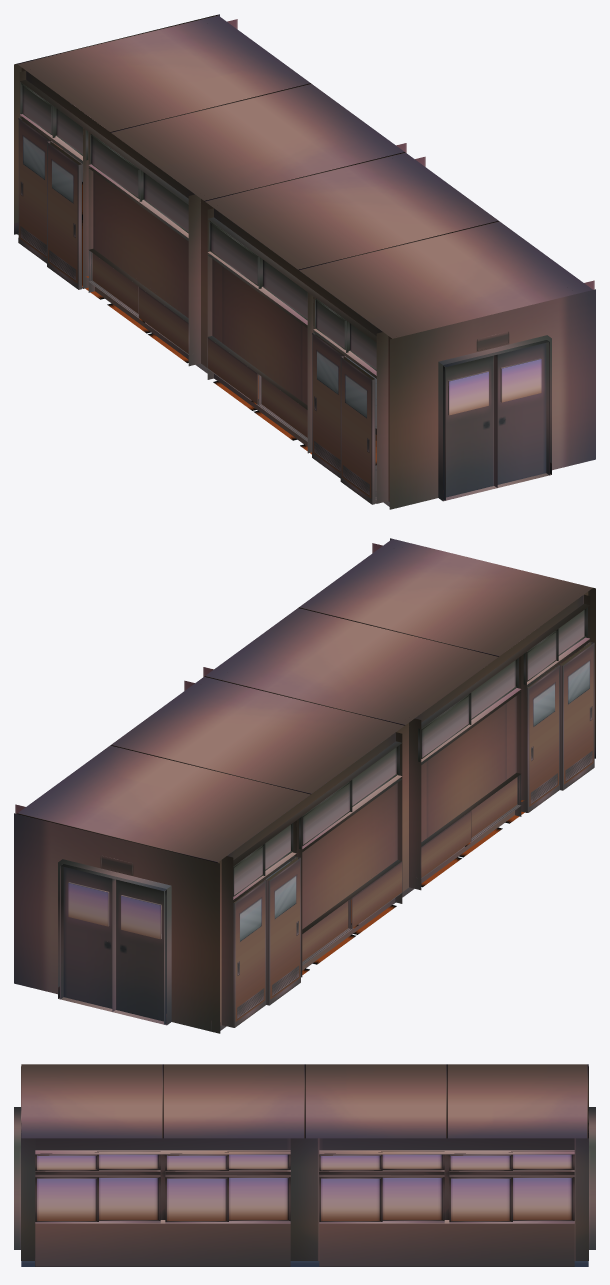
The model's file is JpsHallWayEveModel.FBX.
3 views of the same model, one above another, from view 1: azimuth 30°, elevation 25°; view 2: azimuth 150°, elevation 25°; view 3: azimuth 270°, elevation 25° (orthographic). The views are drawn at different scales.
Visible parts, largest first — view 1: HW_ceiling board_eve00, HW_wallL_eve00, HW_wall_exitB_eve00, HW_doorL_exitB_eve00, HW_doorR_exitB_eve00, HW_doorR_b_eve, HW_doorR_f_eve, HW_doorL_f_eve, HW_doorL_b_eve, HW_floor_spot_add_eve00, HW_wall_exitA_eve00; view 2: HW_ceiling board_eve00, HW_wallL_eve00, HW_wall_exitA_eve00, HW_doorL_exitA_eve00, HW_doorR_exitA_eve00, HW_doorR_b_eve, HW_doorR_f_eve, HW_doorL_f_eve, HW_doorL_b_eve, HW_floor_spot_add_eve00; view 3: HW_wallR__eve00, HW_ceiling board_eve00, HW_wall_exitA_eve00, HW_wall_exitB_eve00, HW_baseboardsR00, HW_floor_eve00.
Part boxes in pixels (x1,y1,x2,y2): HW_ceiling board_eve00: (17,15,592,338); HW_wallL_eve00: (19,68,391,503); HW_wall_exitB_eve00: (389,289,595,509); HW_doorL_exitB_eve00: (443,354,497,500); HW_doorR_exitB_eve00: (497,340,549,484); HW_doorR_b_eve: (340,356,375,504); HW_doorR_f_eve: (47,141,81,289); HW_doorL_f_eve: (18,117,53,263); HW_doorL_b_eve: (312,332,346,478); HW_floor_spot_add_eve00: (82,182,376,465); HW_wall_exitA_eve00: (14,14,219,234); HW_ceiling board_eve00: (17,539,592,862); HW_wallL_eve00: (218,592,590,1027); HW_wall_exitA_eve00: (14,813,220,1033); HW_doorL_exitA_eve00: (112,878,166,1024); HW_doorR_exitA_eve00: (60,864,112,1008); HW_doorR_b_eve: (559,642,594,790); HW_doorR_f_eve: (266,857,300,1005); HW_doorL_f_eve: (233,879,266,1027); HW_doorL_b_eve: (527,665,559,812); HW_floor_spot_add_eve00: (302,800,524,974); HW_wallR__eve00: (21,1132,588,1266); HW_ceiling board_eve00: (21,1064,588,1138); HW_wall_exitA_eve00: (588,1107,595,1249); HW_wall_exitB_eve00: (14,1107,21,1249); HW_baseboardsR00: (35,1258,574,1266); HW_floor_eve00: (21,1261,588,1266).
Size of the model in its own units: 410 by 300 by 1230.
